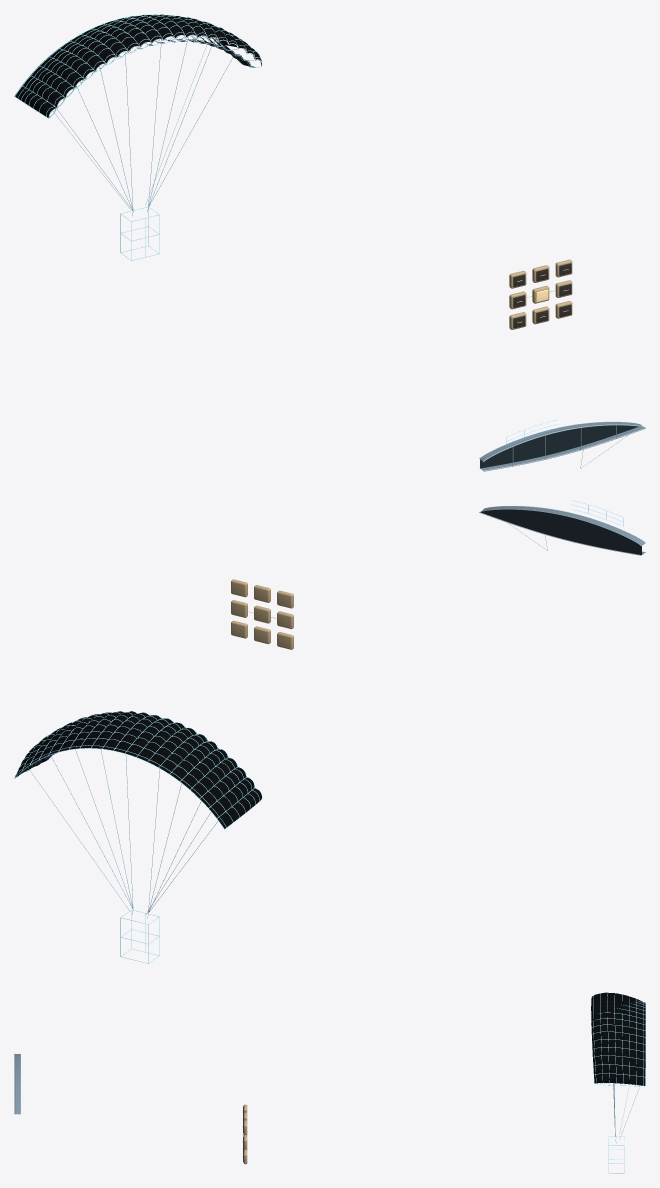
File: rl-solver-blender-scene.glb
3 views of the same model, one above another, from view 1: azimuth 30°, elevation 25°; view 2: azimuth 150°, elevation 25°; view 3: azimuth 270°, elevation 25° (orthographic). The views are drawn at different scales.
Visible parts, largest first — view 1: MeshOcclusionUpper, SectionInnerSlice, Policy; view 2: MeshOcclusionUpper, SectionInnerSlice, Policy, SectionUpperSkin; view 3: MeshOcclusionUpper, SectionUpperSkin, Policy.
Boxes of the visible parts, bbox=[...] form: MeshOcclusionUpper: bbox=[15, 14, 261, 117]; SectionInnerSlice: bbox=[480, 425, 638, 468]; Policy: bbox=[509, 259, 572, 329]; MeshOcclusionUpper: bbox=[15, 711, 261, 828]; SectionInnerSlice: bbox=[481, 509, 641, 554]; Policy: bbox=[231, 579, 293, 649]; SectionUpperSkin: bbox=[481, 506, 644, 545]; MeshOcclusionUpper: bbox=[591, 992, 645, 1085]; SectionUpperSkin: bbox=[15, 1054, 20, 1114]; Policy: bbox=[243, 1104, 247, 1164].
Size of the model in its own units: 11.11 by 8.79 by 30.52.
